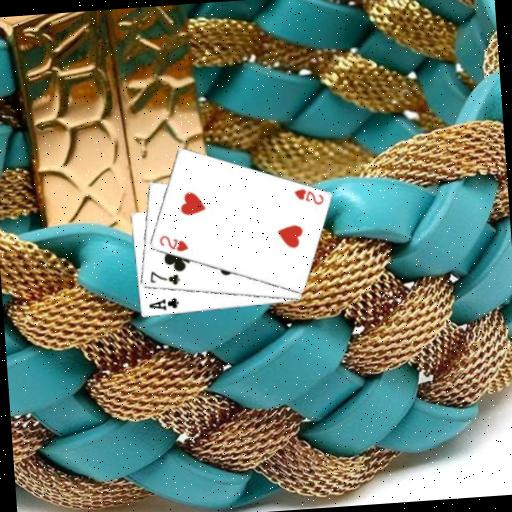2H: (156, 231, 191, 255), (291, 184, 326, 208)
7C: (146, 267, 182, 289)
AC: (145, 295, 180, 314)
